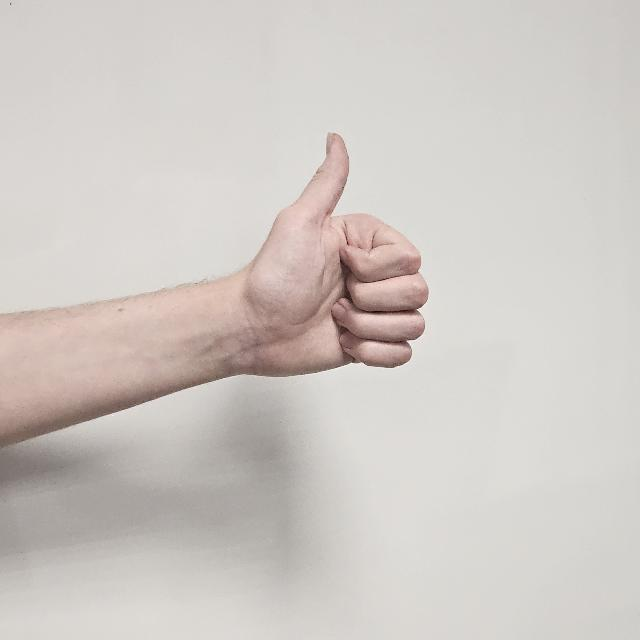Start: (242, 122, 430, 426)
